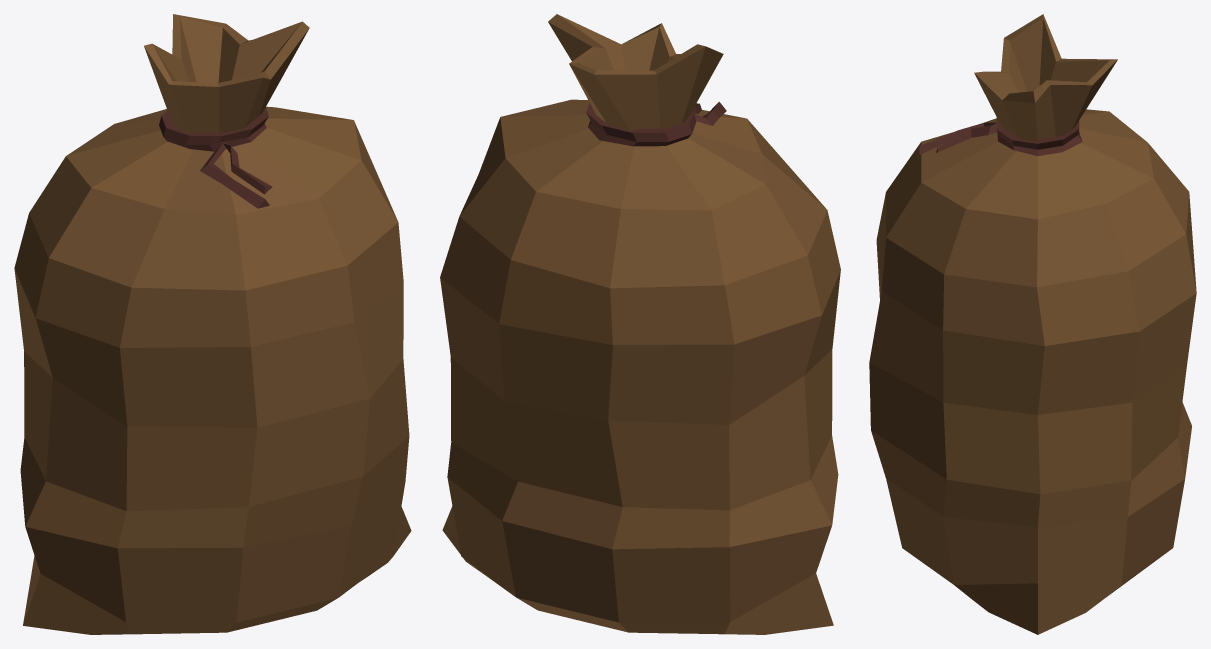
The model's file is bag.fbx.
3 views of the same model, side by side, from view 1: azimuth 30°, elevation 25°; view 2: azimuth 150°, elevation 25°; view 3: azimuth 270°, elevation 25° (orthographic). The views are drawn at different scales.
Visible parts, largest first — view 1: bag; view 2: bag; view 3: bag.
Part boxes in pixels (box(x1,y1,x2,y2)): bag: box(14, 14, 411, 634); bag: box(440, 14, 840, 634); bag: box(869, 14, 1196, 634).
Size of the model in its own units: 44.64 by 60.07 by 35.47.
